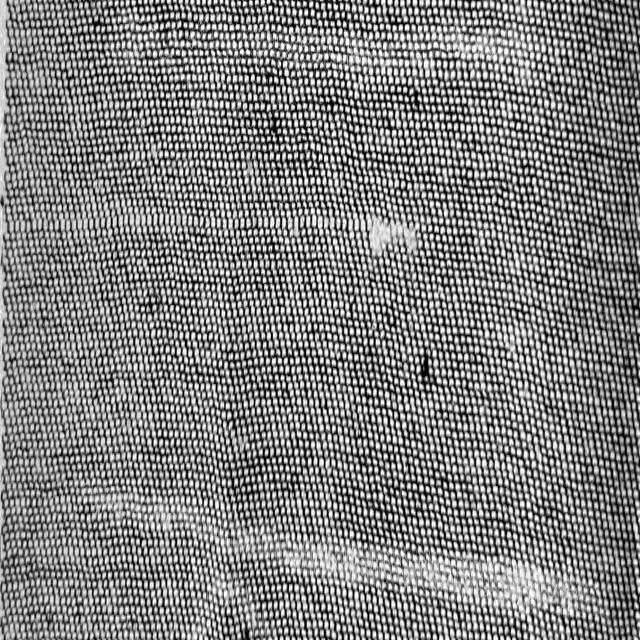Foreign_yarn: (65, 459, 592, 632), (11, 180, 426, 270)
